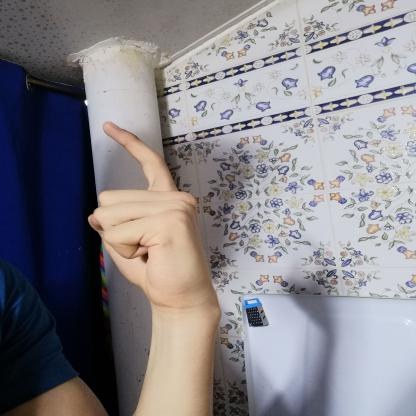RAA: (74, 114, 226, 305)
